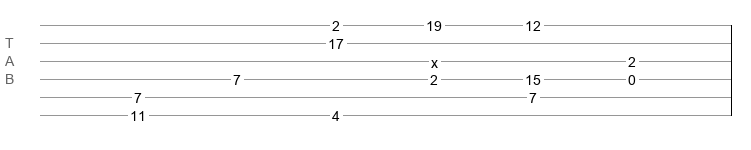0: (628, 72, 636, 82)
11: (130, 108, 146, 118)
12: (525, 18, 541, 28)
15: (525, 72, 541, 82)
17: (328, 36, 344, 46)
19: (426, 18, 442, 28)
2: (332, 18, 340, 28), (430, 72, 438, 82), (628, 54, 636, 64)
4: (332, 108, 340, 118)
7: (134, 90, 142, 100), (233, 72, 241, 82), (529, 90, 537, 100)
x: (431, 55, 438, 63)
